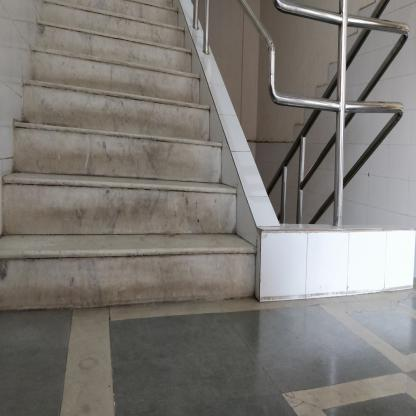stairs: (43, 34, 189, 319)
